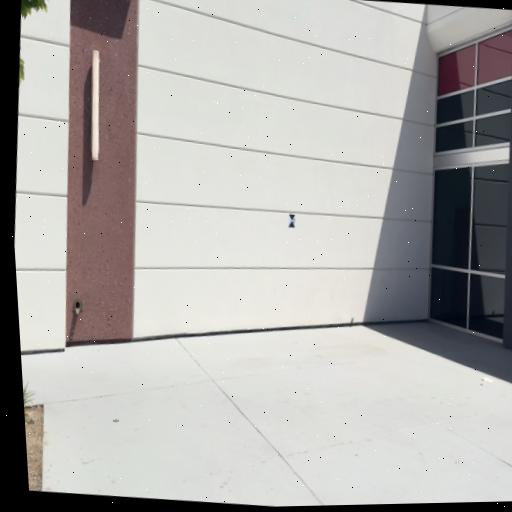target7: (288, 214, 296, 229)
